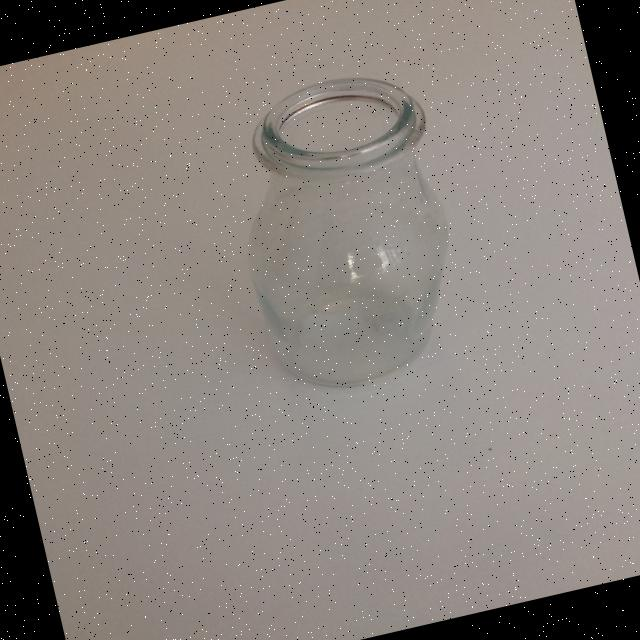glass: (209, 59, 482, 404)
